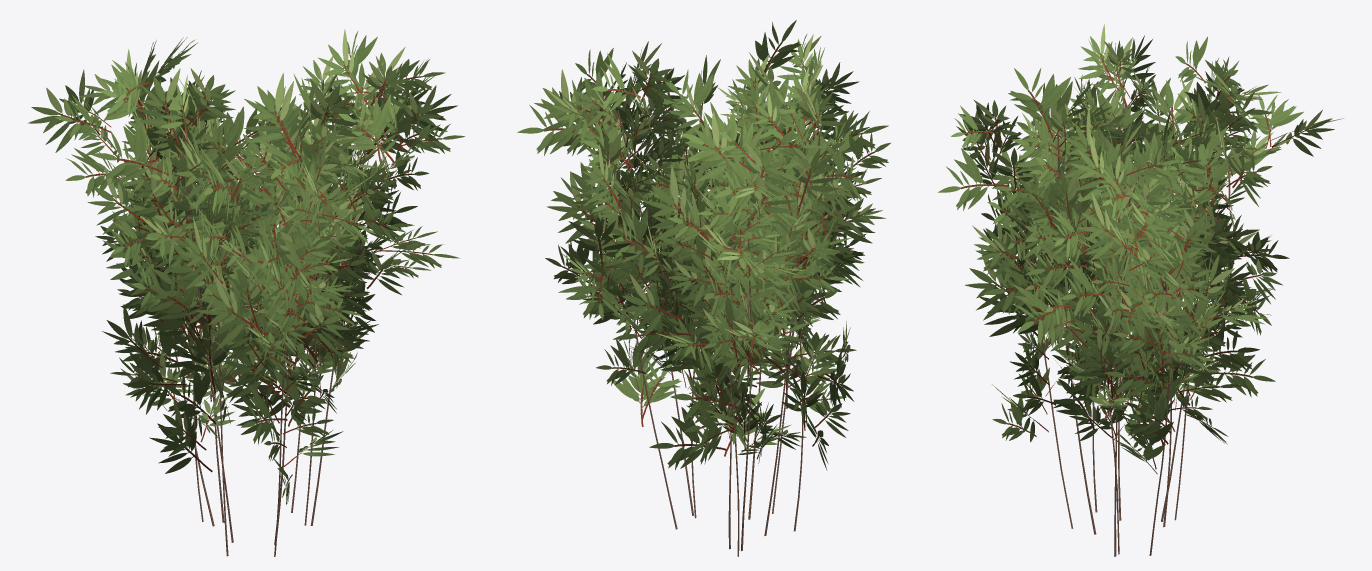
Rendered from bush_08.glb.
3 views of the same model, side by side, from view 1: azimuth 30°, elevation 25°; view 2: azimuth 150°, elevation 25°; view 3: azimuth 270°, elevation 25° (orthographic). The views are drawn at different scales.
Visible parts, largest first — view 1: mountain_willow_LOD0; view 2: mountain_willow_LOD0; view 3: mountain_willow_LOD0.
Part boxes in pixels (left/top/right/bottom): mountain_willow_LOD0: left=28, top=29, right=465, bottom=556; mountain_willow_LOD0: left=517, top=20, right=890, bottom=556; mountain_willow_LOD0: left=938, top=24, right=1343, bottom=556.
Size of the model in its own units: 1.1 by 1.41 by 1.13.
2 materials, 2 textured.
